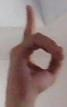D1: (1, 1, 67, 94)
